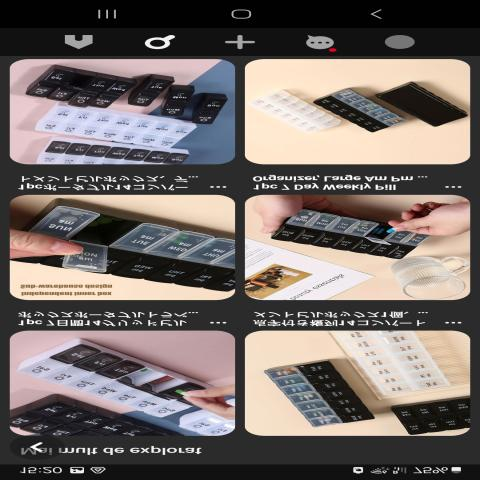PillBox: (7, 200, 252, 290), (28, 333, 221, 418), (278, 201, 458, 259), (267, 354, 378, 429), (373, 78, 476, 134), (306, 88, 404, 135)
